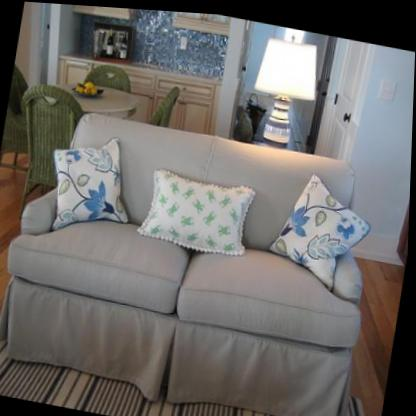Sofa: (0, 92, 366, 409)
